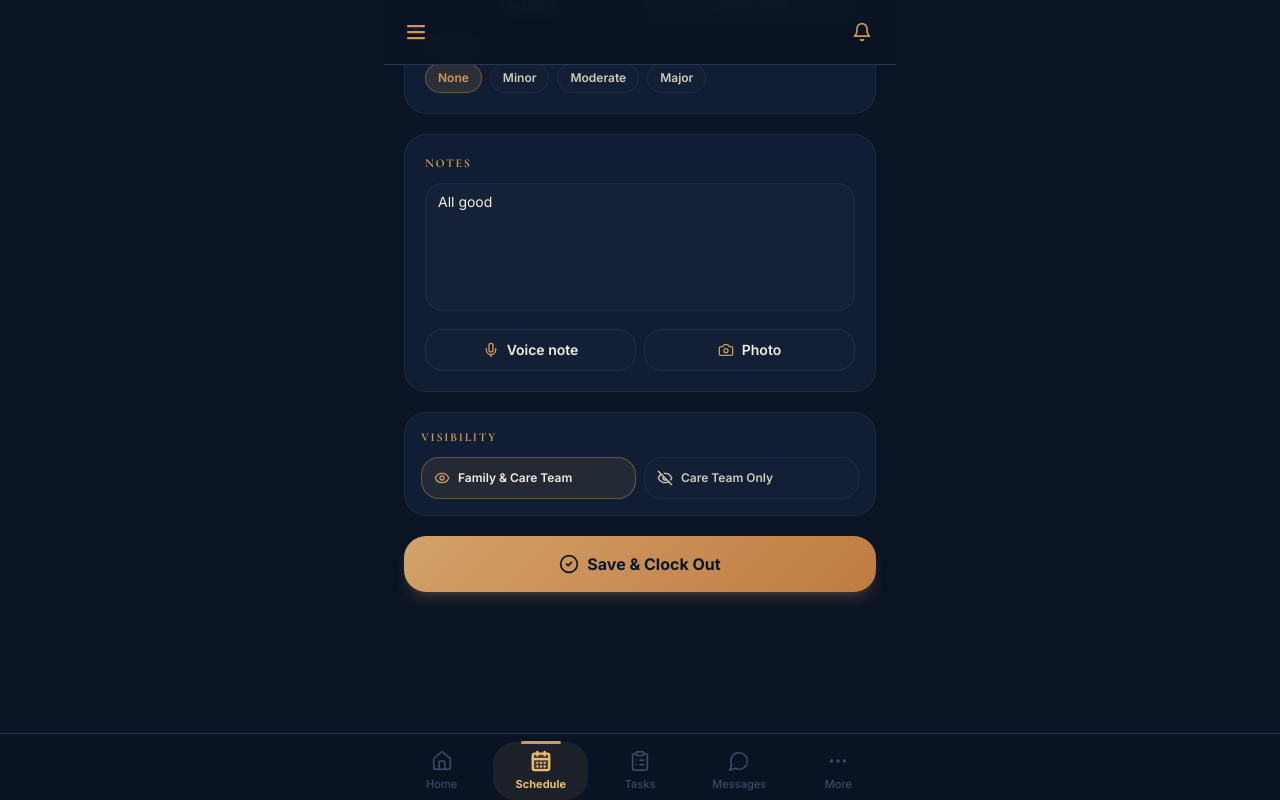
Test: CareNotesPage — GPS verification on Save & Clock Out › blocks clock-out when caregiver is outside the geofence
This screenshot has width=1280, height=800.
(page scrolled)
Click the button "Save & Clock Out" at (640, 564), box top-left (404, 536), bottom-right (876, 592)
(page scrolled)
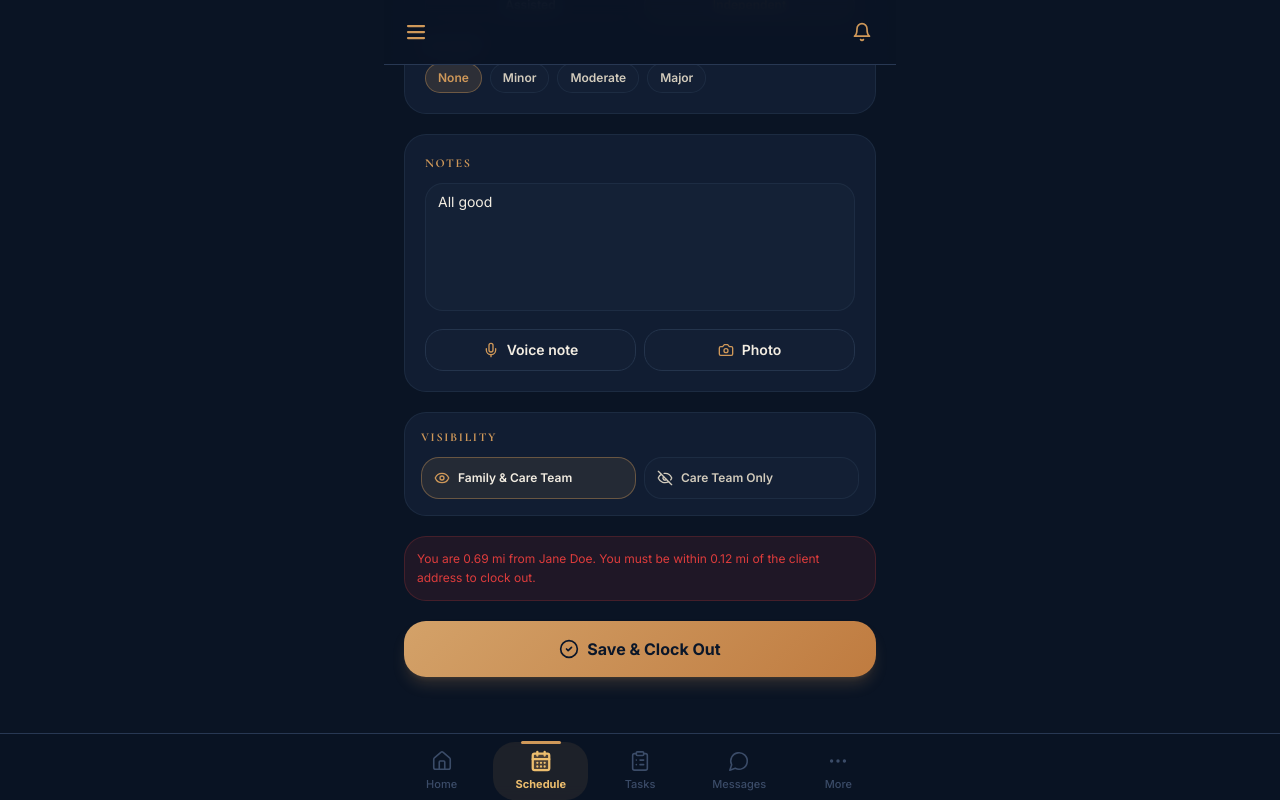
Result: the text "from Jane Doe" is shown at top-left (417, 550), bottom-right (820, 585)
